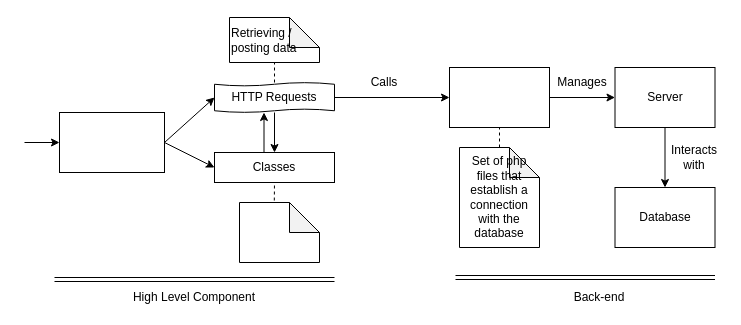
Some shapes in this 741 by 325 pixel diagram are drawn without their labels. The centre of each missing label's shape, as x and y in pixels:
"Dart code" goes at point (111, 142).
"PHP Module" goes at point (499, 97).
"User interface, graphics and functionalities" goes at point (279, 232).
